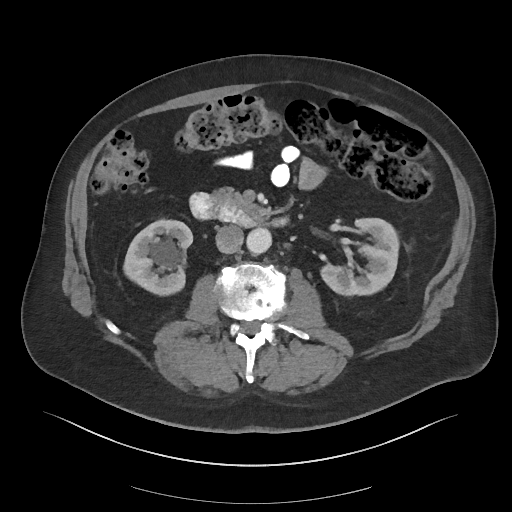Lesion: (147, 234, 182, 271)
